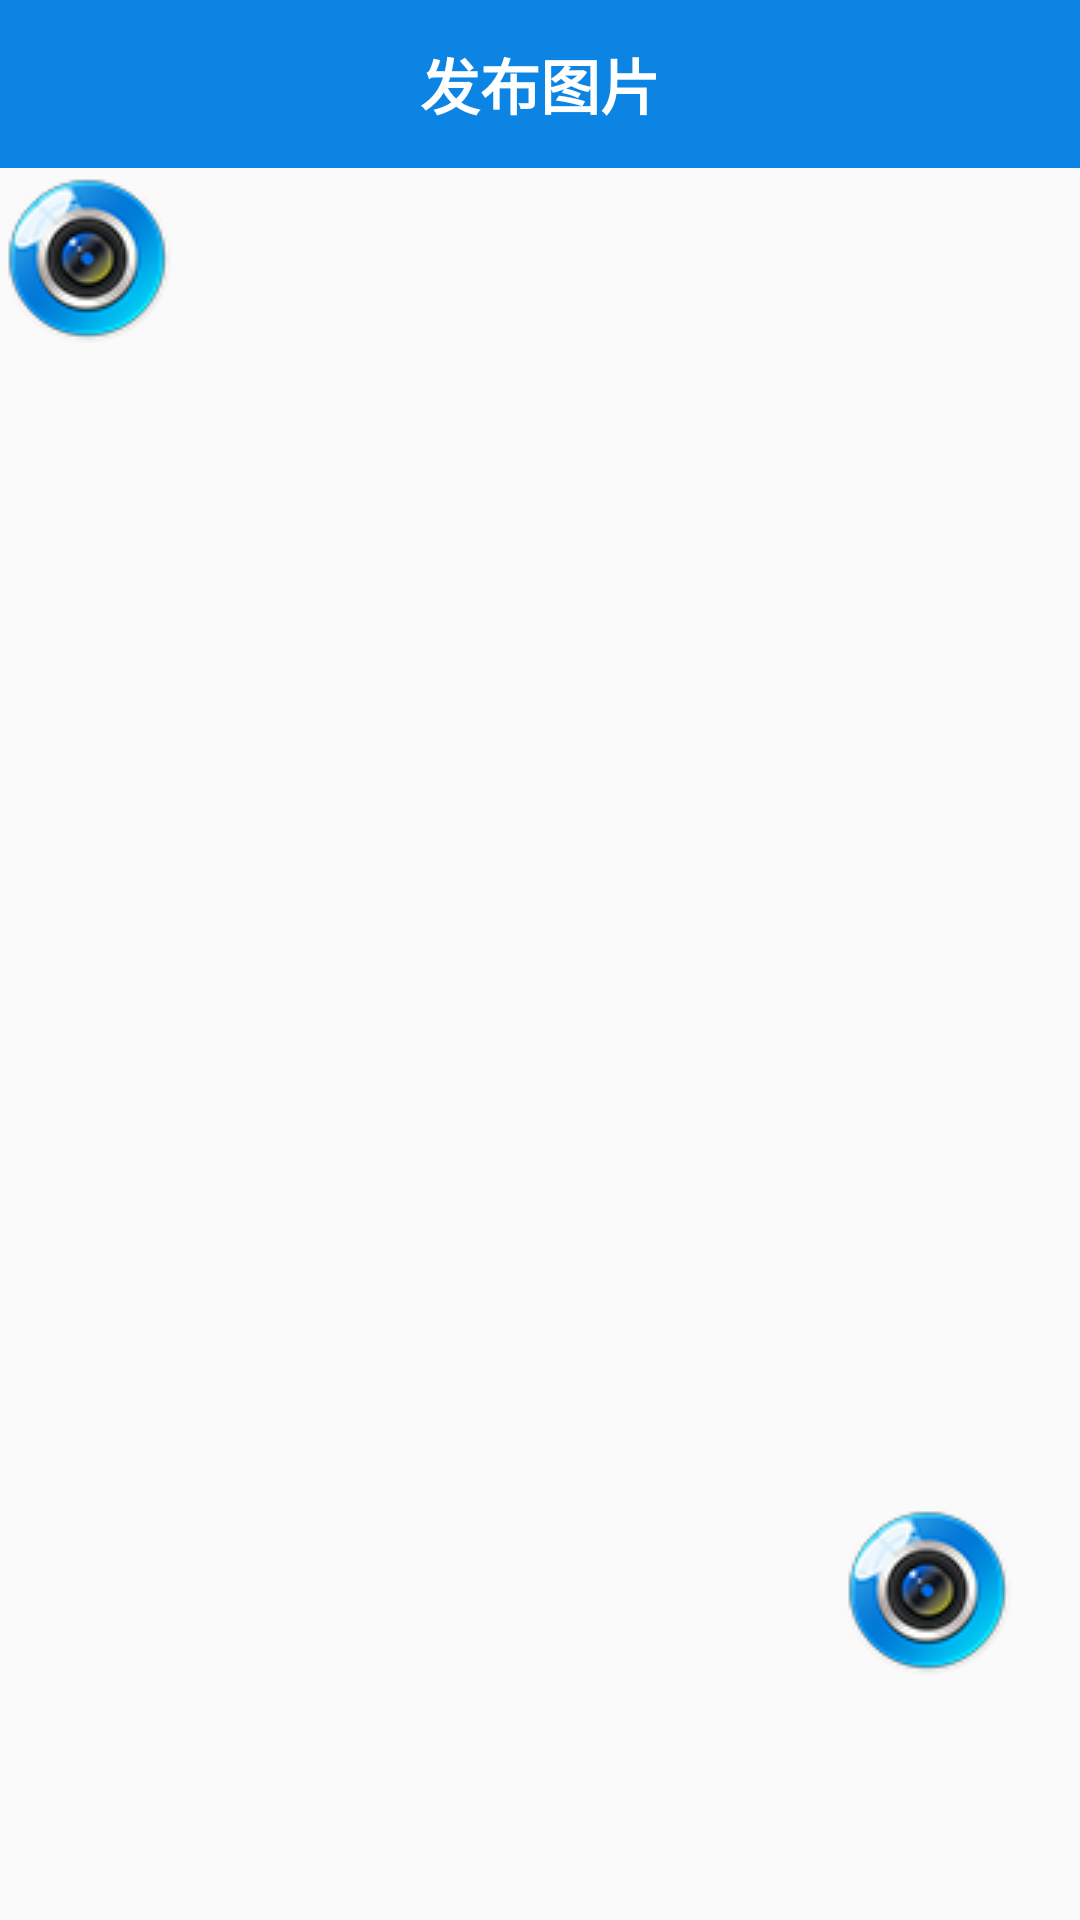

Icon click points for this 1080px x 1920px phone screenshot, format [x,y]:
photo: [87,258], [927,1590]
